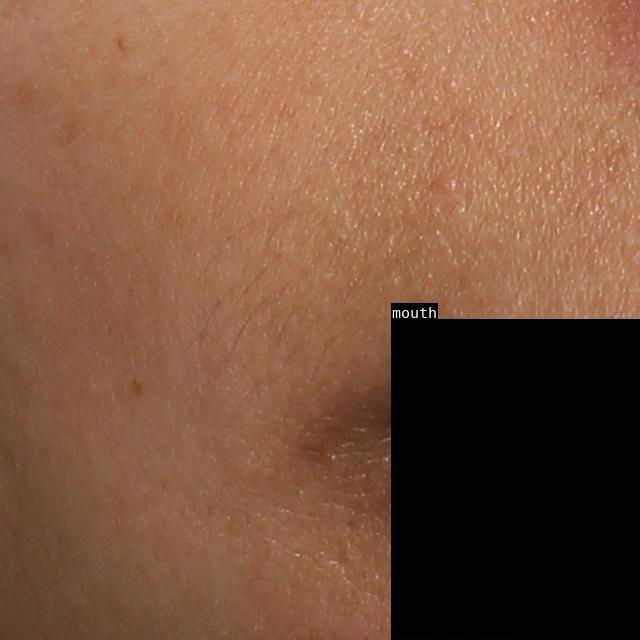comedo: (431, 172, 465, 196)
